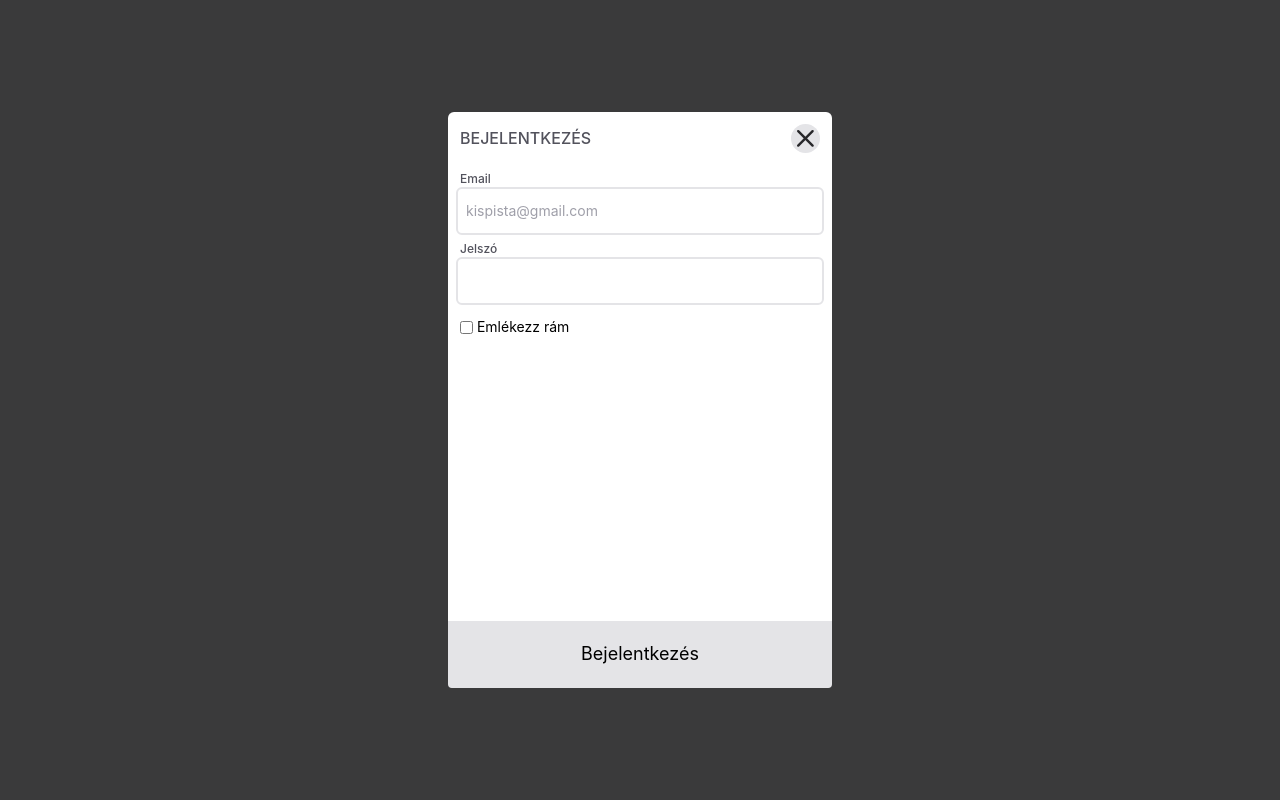
it: Login component › should display success message when form sending succeeds
The image size is (1280, 800).
Type "tesztelek@gmail.com" into the field with id "email" at (640, 211), box [458,189,822,233]
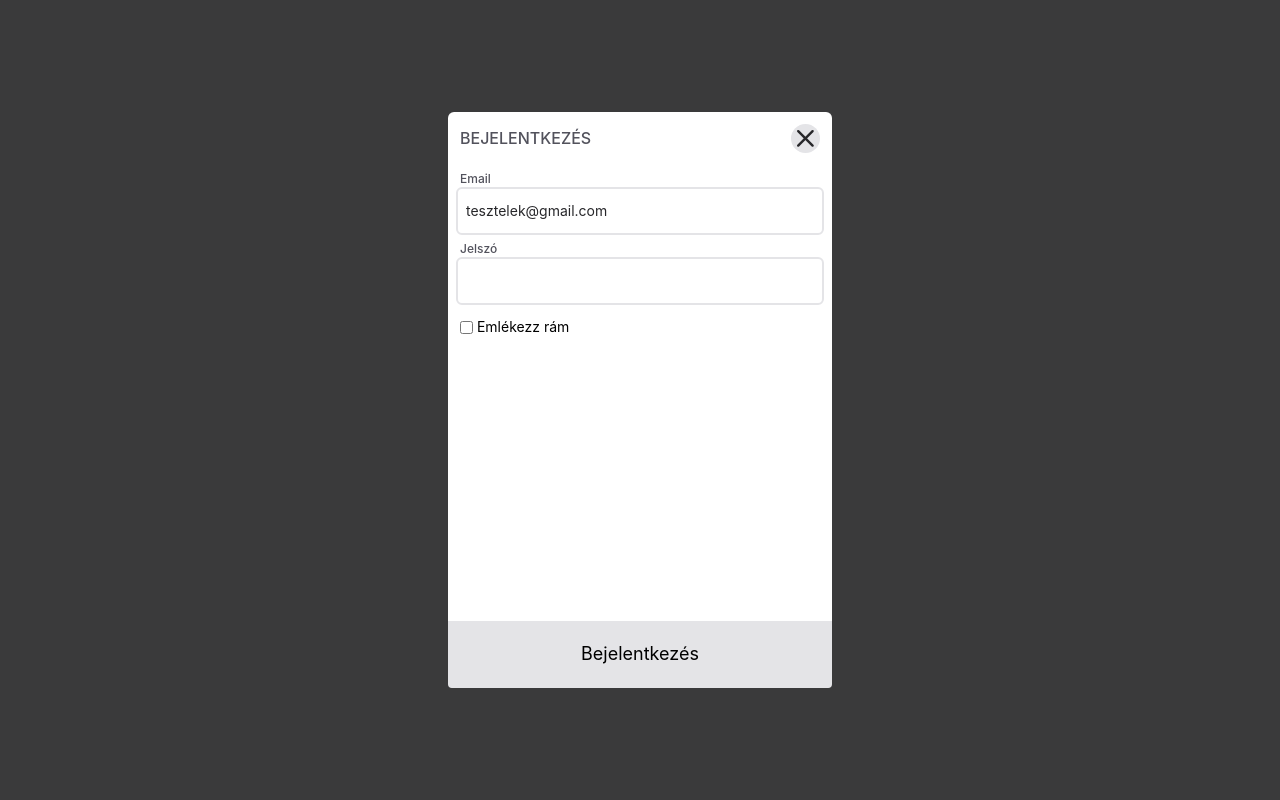
Type "password123" into the password field at (640, 281), box [458,259,822,303]
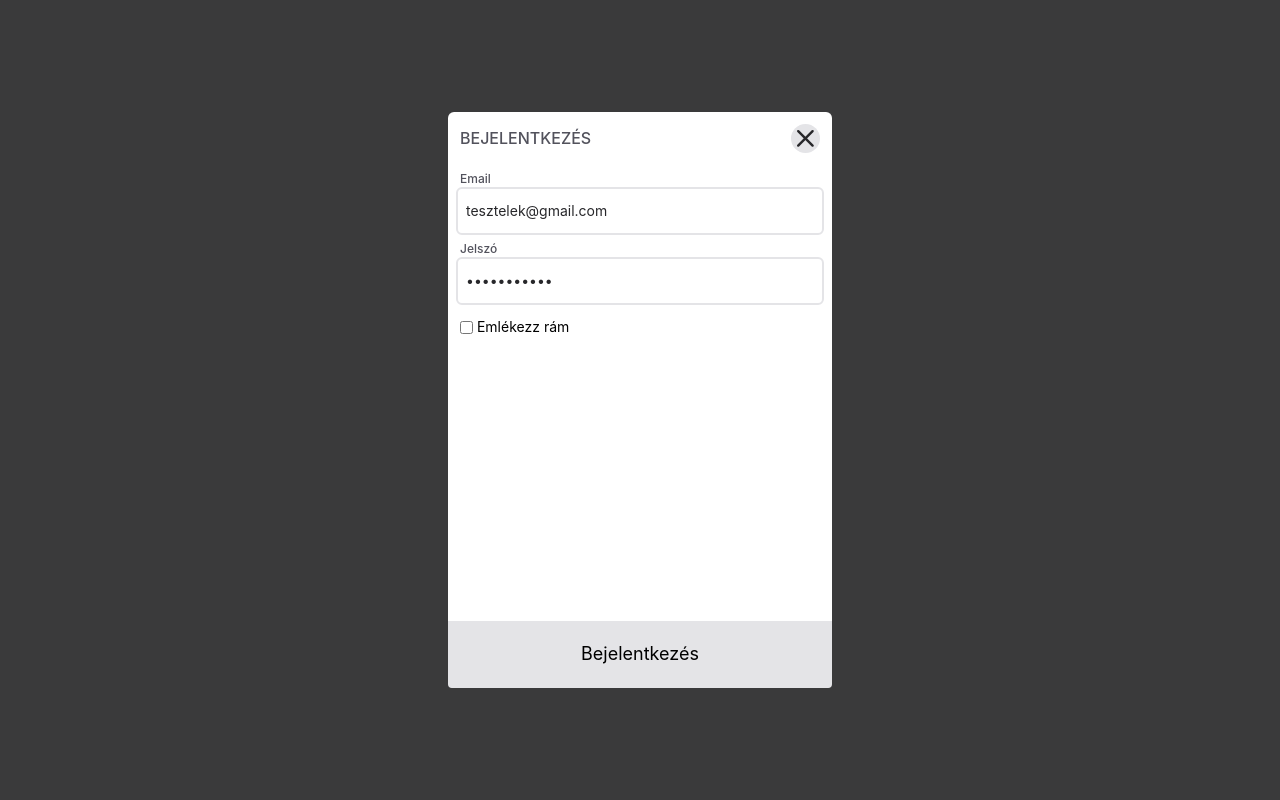
Click the button with id "submit" at (640, 654), box [448,621,832,688]
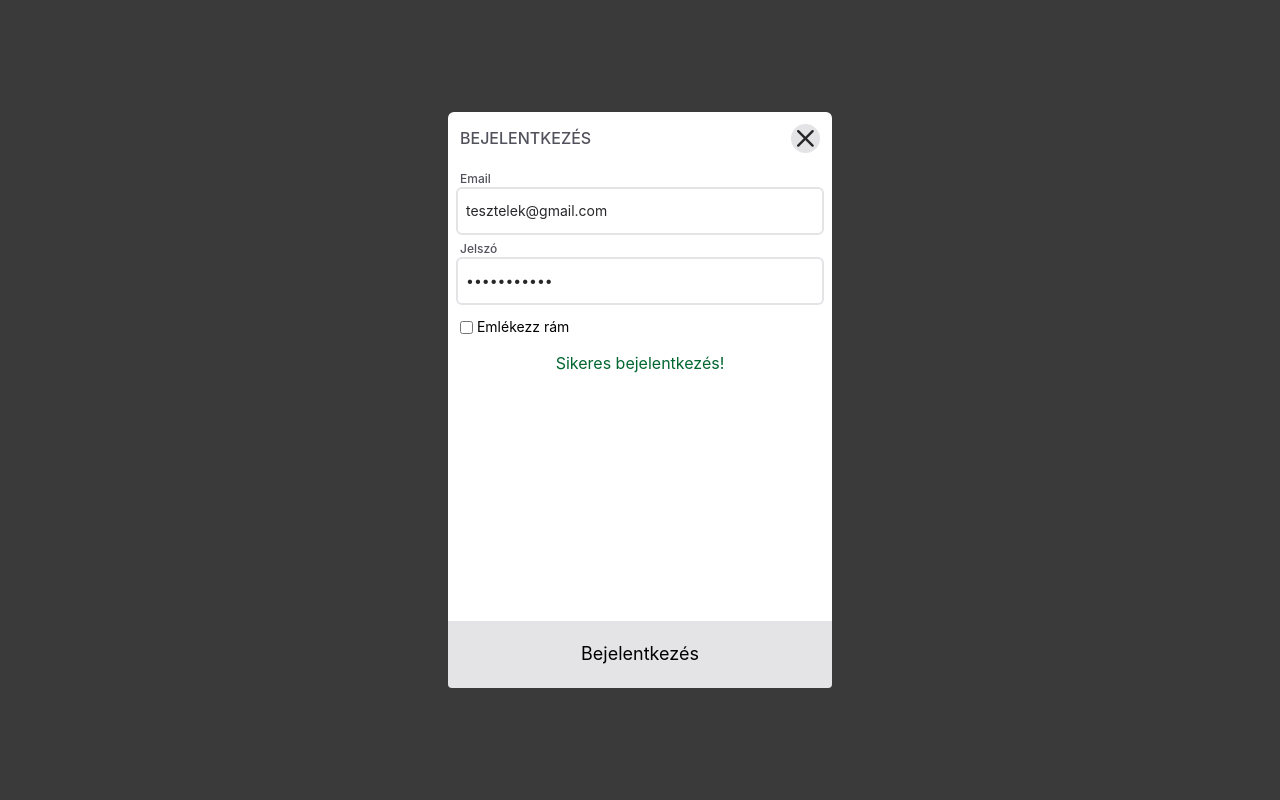
Expected: the text "Sikeres bejelentkezés!" is shown, [556,353,724,373]
